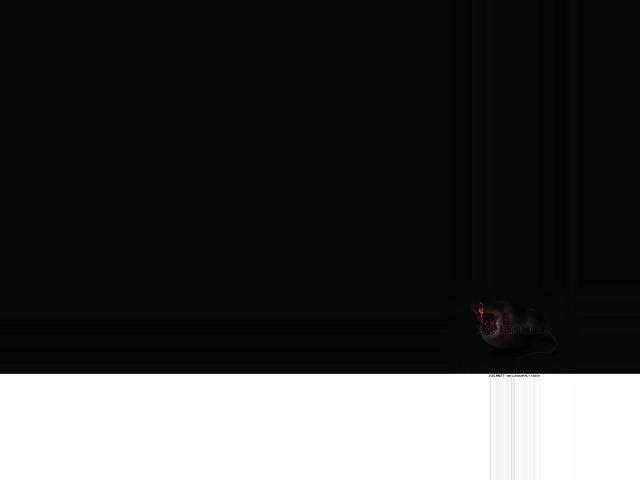beet: (468, 300, 557, 358)
